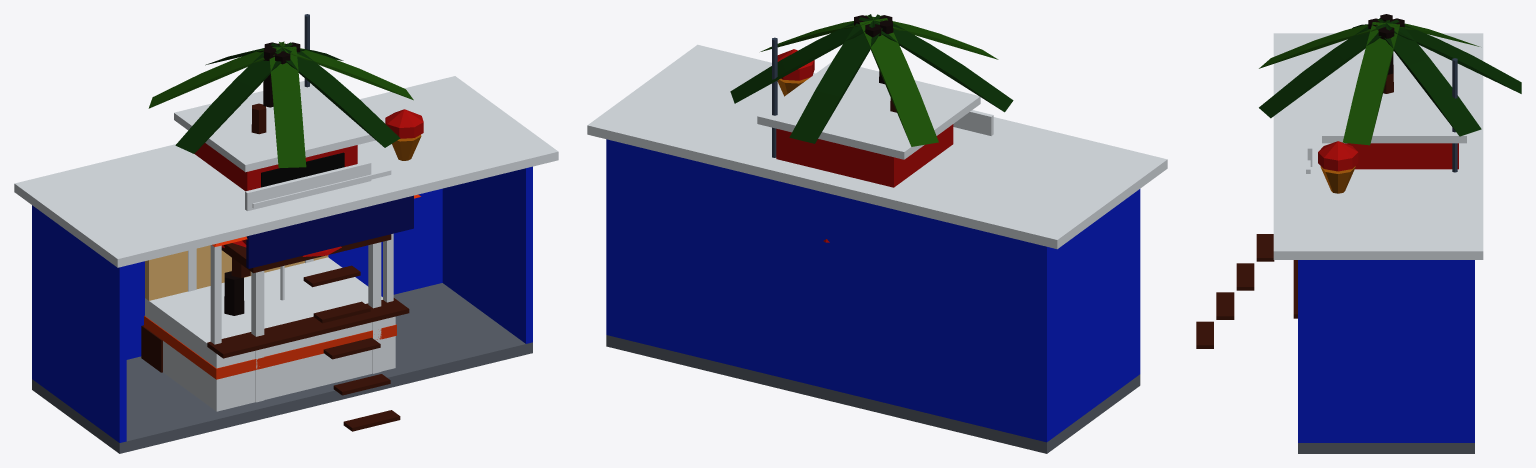
The model's file is beach_kit.glb.
The picture shows the model from 3 angles, left to right: view 1: azimuth 30°, elevation 25°; view 2: azimuth 150°, elevation 25°; view 3: azimuth 270°, elevation 25°; orthographic projection. The views are drawn at different scales.
Visible parts, largest first — view 1: SM_BC_Shelter, SM_BC_Kiosk, SM_BC_Tower, SM_BC_Palm; view 2: SM_BC_Shelter, SM_BC_Tower, SM_BC_Palm, SM_BC_Kiosk; view 3: SM_BC_Shelter, SM_BC_Palm, SM_BC_Tower, SM_BC_Kiosk.
Part boxes in pixels (x1,y1,x2,y2): SM_BC_Shelter: [14, 76, 558, 453]; SM_BC_Kiosk: [144, 109, 423, 411]; SM_BC_Tower: [174, 14, 400, 431]; SM_BC_Palm: [148, 41, 413, 315]; SM_BC_Shelter: [587, 44, 1167, 453]; SM_BC_Tower: [757, 37, 980, 187]; SM_BC_Palm: [730, 14, 1013, 146]; SM_BC_Kiosk: [777, 49, 993, 135]; SM_BC_Shelter: [1273, 33, 1483, 453]; SM_BC_Palm: [1259, 14, 1521, 145]; SM_BC_Tower: [1196, 58, 1466, 348]; SM_BC_Kiosk: [1293, 88, 1358, 318].
Size of the model in its own units: 6.4 by 4.5 by 4.04.
Materials: 9 (9 with a texture image).
